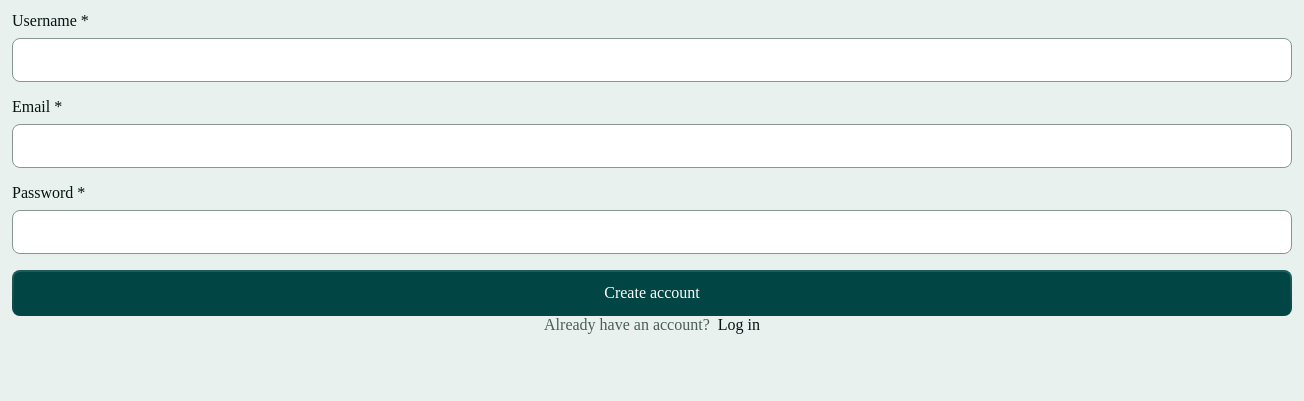
Test case: Sign up flow › shows a general error message if submitting fails
Type "valid user" into the field labelled "Username *" at (652, 60), box [12, 38, 1292, 82]
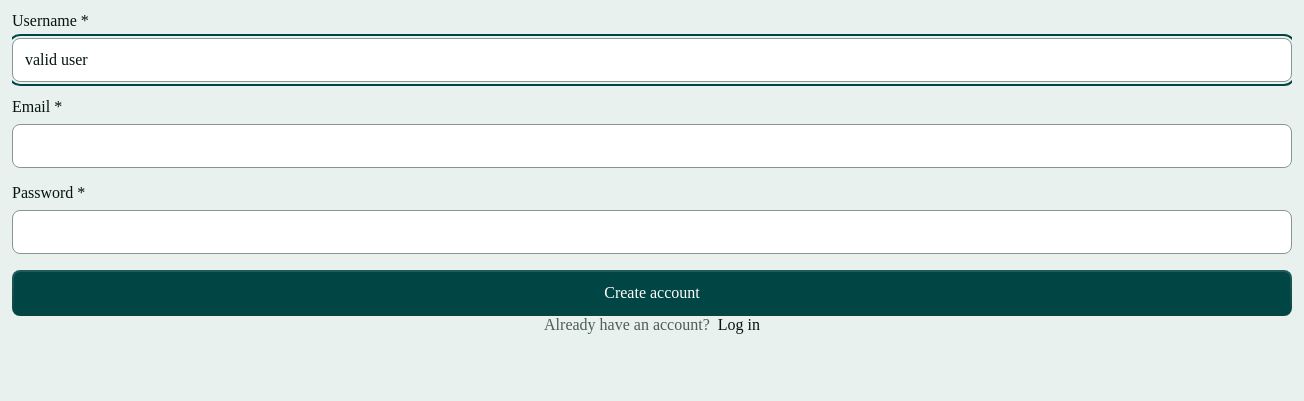
Type "valid@email.com" into the field labelled "Email *" at (652, 146), box [12, 124, 1292, 168]
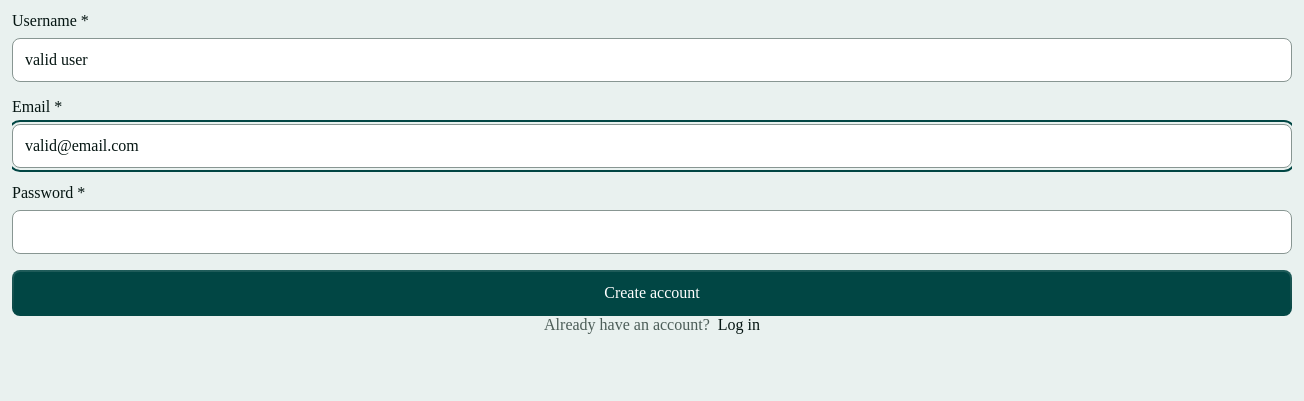
Type "ValidPassword123" into the password field labelled "Password *" at (652, 232), box [12, 210, 1292, 254]
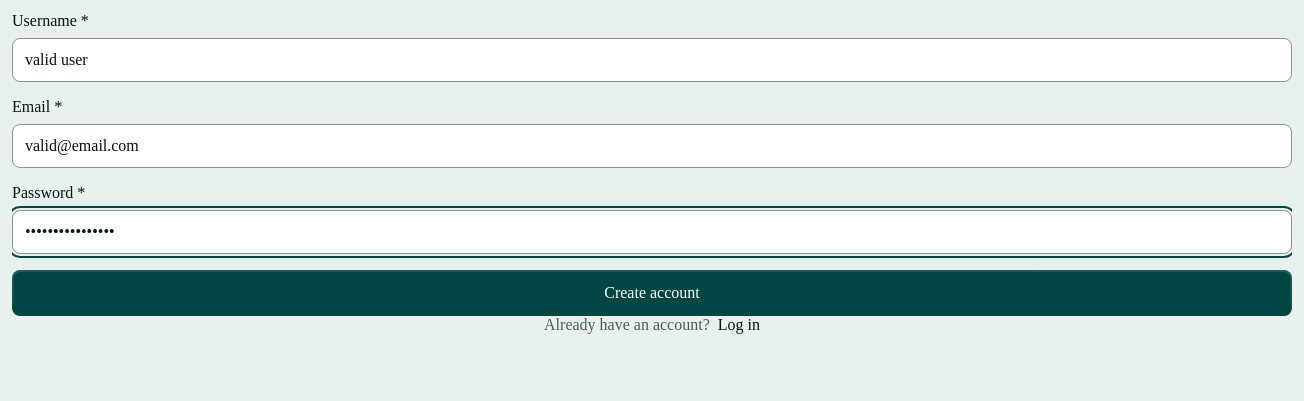
Click the button "Create account" at (652, 293), box [12, 270, 1292, 316]
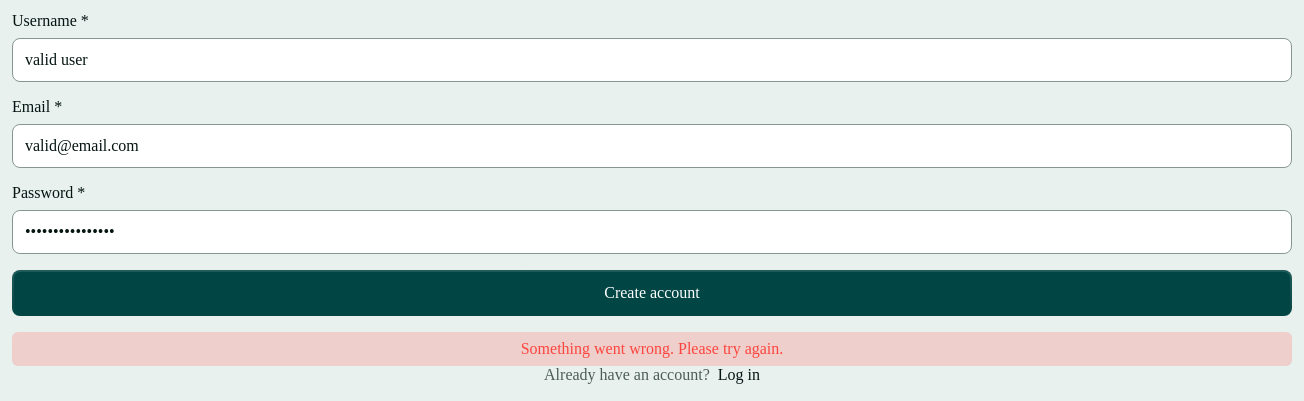
Expected: the text "Something went wrong. Please try again." is shown, [12, 332, 1292, 366]
